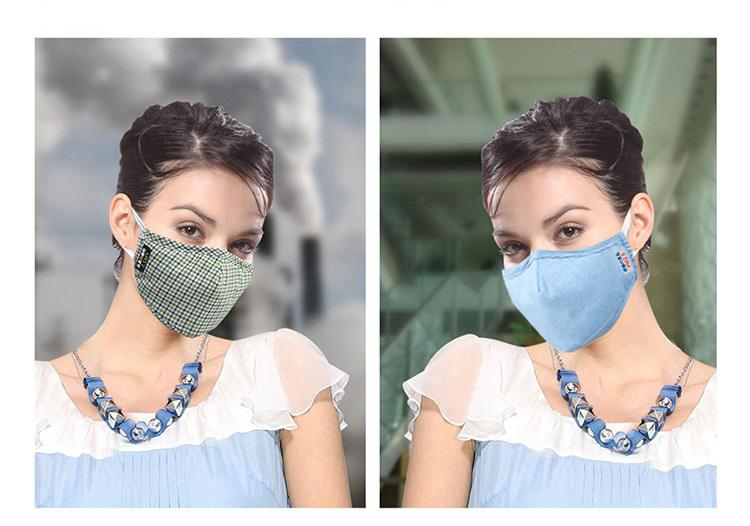OK: (495, 190, 638, 352), (135, 192, 264, 342)
